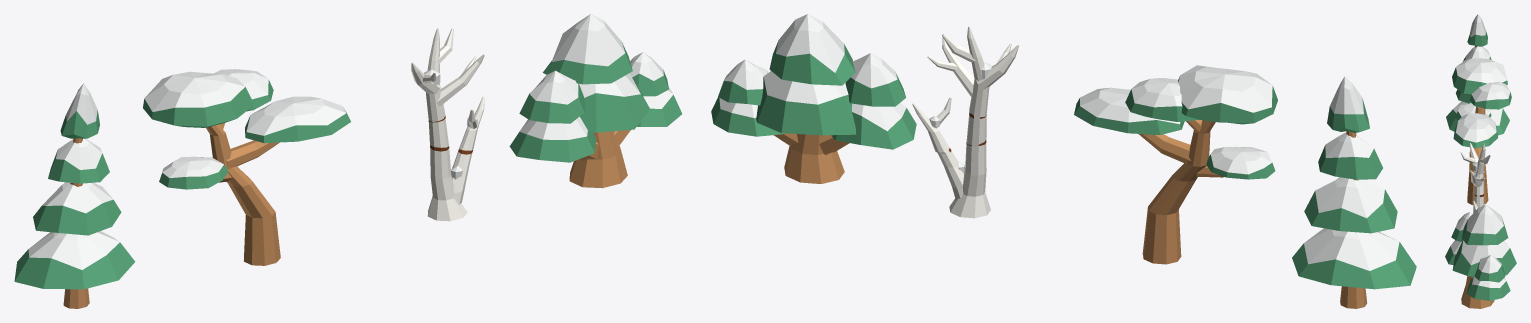
The model's file is LobbySnowTrees.glb.
3 renders of one model, left to right at view 1: azimuth 30°, elevation 25°; view 2: azimuth 150°, elevation 25°; view 3: azimuth 270°, elevation 25°, orthographic. The views are drawn at different scales.
Parts seen in each view (by area): view 1: SnowCedar, WindPine, AlpineFir, WinterBirch; view 2: SnowCedar, WindPine, AlpineFir, WinterBirch; view 3: SnowCedar, WindPine, AlpineFir, WinterBirch.
Part boxes in pixels (box(x1,y1,x2,y2)): SnowCedar: box(509, 14, 682, 188); WindPine: box(143, 69, 350, 265); AlpineFir: box(14, 83, 135, 308); WinterBirch: box(411, 28, 484, 221); SnowCedar: box(711, 14, 916, 183); WindPine: box(1074, 65, 1277, 264); AlpineFir: box(1292, 76, 1416, 308); WinterBirch: box(912, 26, 1018, 218); SnowCedar: box(1445, 204, 1516, 308); WindPine: box(1452, 58, 1511, 205); AlpineFir: box(1446, 14, 1509, 135); WinterBirch: box(1460, 143, 1490, 212).
Size of the model in its own units: 16.18 by 5.04 by 2.46.
Materials: 1 (1 with a texture image).
